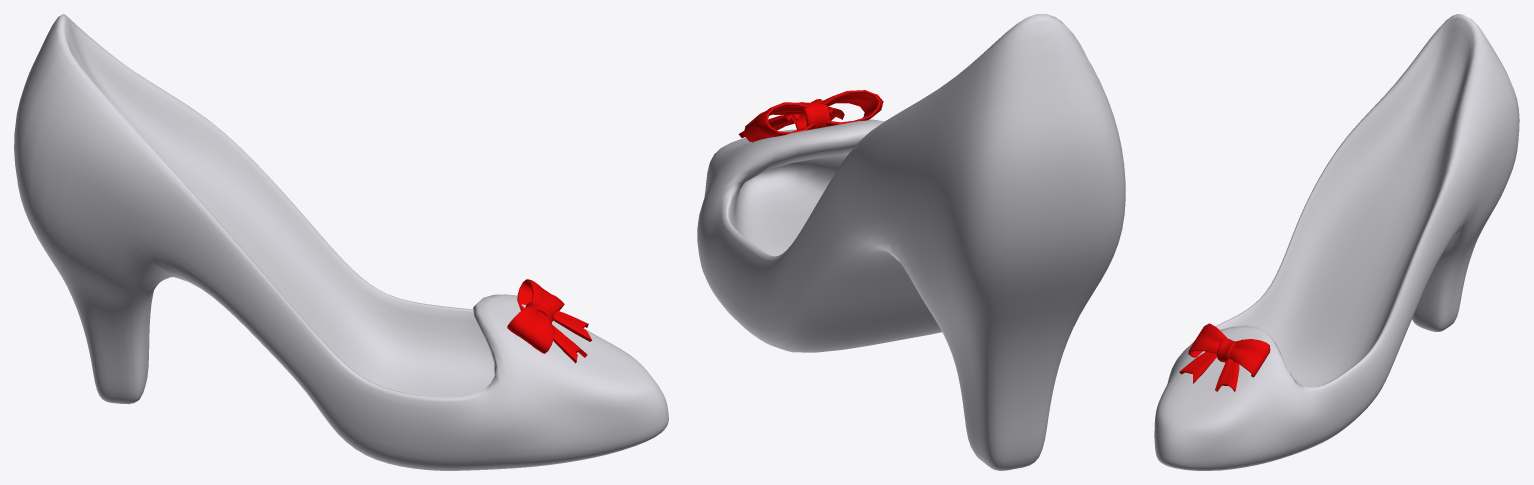
File: RibbonHeel2.fbx
3 renders of one model, left to right at view 1: azimuth 30°, elevation 25°; view 2: azimuth 150°, elevation 25°; view 3: azimuth 270°, elevation 25°, orthographic. The views are drawn at different scales.
Parts seen in each view (by area): view 1: HeelRight1, RibbonCombined1; view 2: HeelRight1, RibbonCombined1; view 3: HeelRight1, RibbonCombined1.
Boxes of the visible parts, x1,y1,x2,y2 form: HeelRight1: (14, 14, 668, 470); RibbonCombined1: (507, 279, 591, 363); HeelRight1: (697, 14, 1125, 470); RibbonCombined1: (738, 90, 883, 142); HeelRight1: (1154, 14, 1519, 470); RibbonCombined1: (1179, 323, 1270, 391).
Size of the model in its own units: 3.03 by 2.41 by 2.57.
